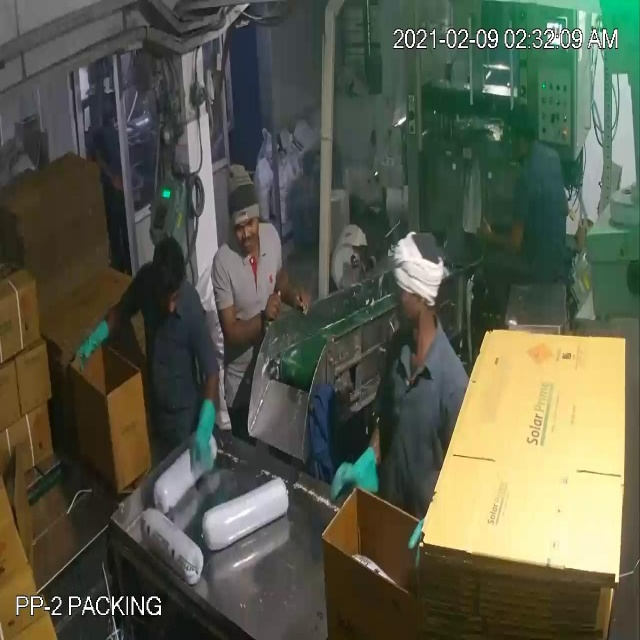Guantes: (180, 388, 237, 489), (321, 437, 385, 520), (70, 308, 114, 378)
Sin_guantes: (216, 293, 289, 355), (270, 260, 317, 329), (474, 207, 526, 260)
